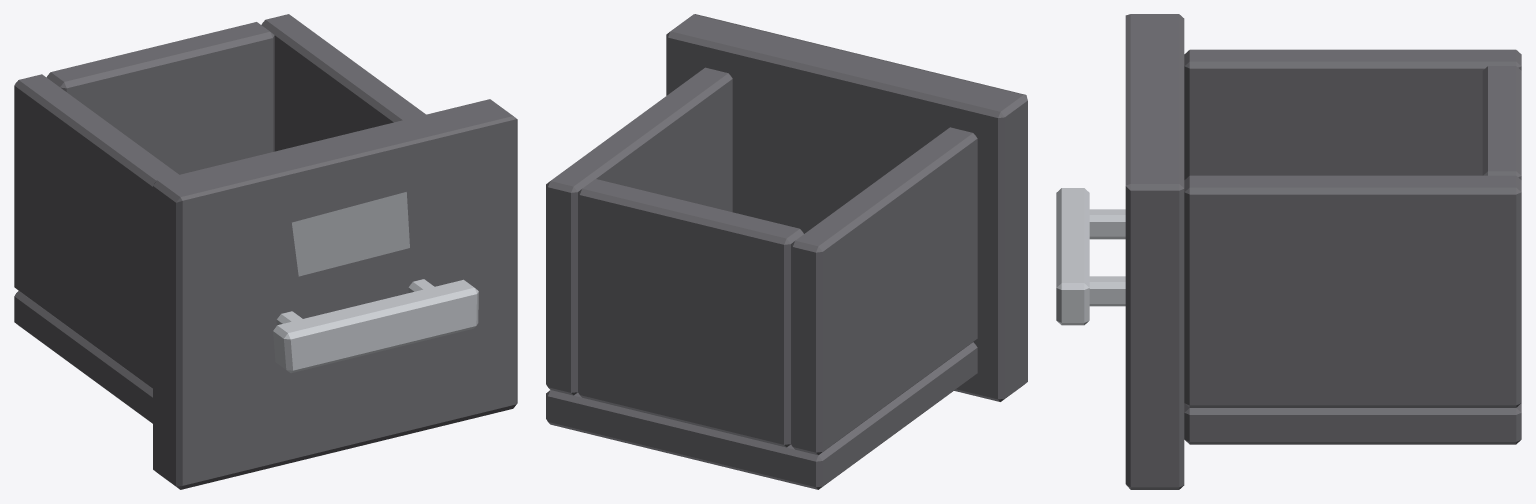
File: Shelving_4_box_6.fbx
3 views of the same model, side by side, from view 1: azimuth 30°, elevation 25°; view 2: azimuth 150°, elevation 25°; view 3: azimuth 270°, elevation 25° (orthographic). The views are drawn at different scales.
Parts seen in each view (by area): view 1: Shelving_4_box_6; view 2: Shelving_4_box_6; view 3: Shelving_4_box_6.
Part boxes in pixels (bbox=[...]): Shelving_4_box_6: bbox=[14, 14, 517, 489]; Shelving_4_box_6: bbox=[546, 14, 1027, 489]; Shelving_4_box_6: bbox=[1056, 14, 1521, 489].
Size of the model in its own units: 0.3336 by 0.2733 by 0.3762.
